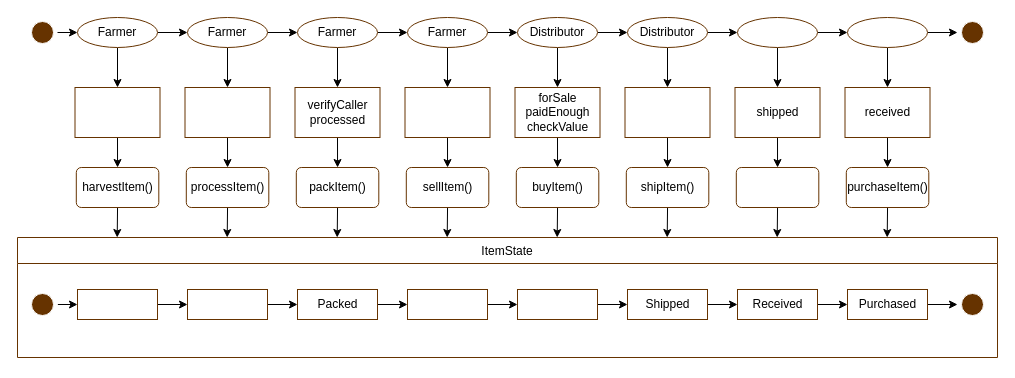
Some shapes in this 1015 by 378 pixel diagram are drawn without their labels. Each missing label, with the box of its shape:
Consumer: (846, 16, 928, 48)
ForSale: (406, 288, 488, 320)
Harvested: (76, 288, 158, 320)
Processed: (186, 288, 268, 320)
receiveItem(): (735, 166, 819, 208)
Retailer: (736, 16, 818, 48)
Sold: (516, 288, 598, 320)
verifyCaller: (74, 86, 160, 138)
verifyCaller harvested: (184, 86, 270, 138)
verifyCaller packed: (404, 86, 490, 138)
verifyCaller sold: (624, 86, 710, 138)
